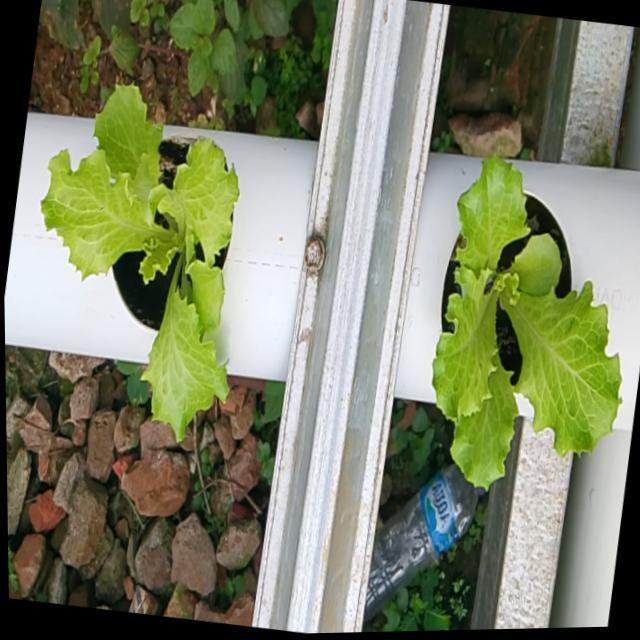Baby: (39, 82, 237, 437), (427, 151, 618, 488)
